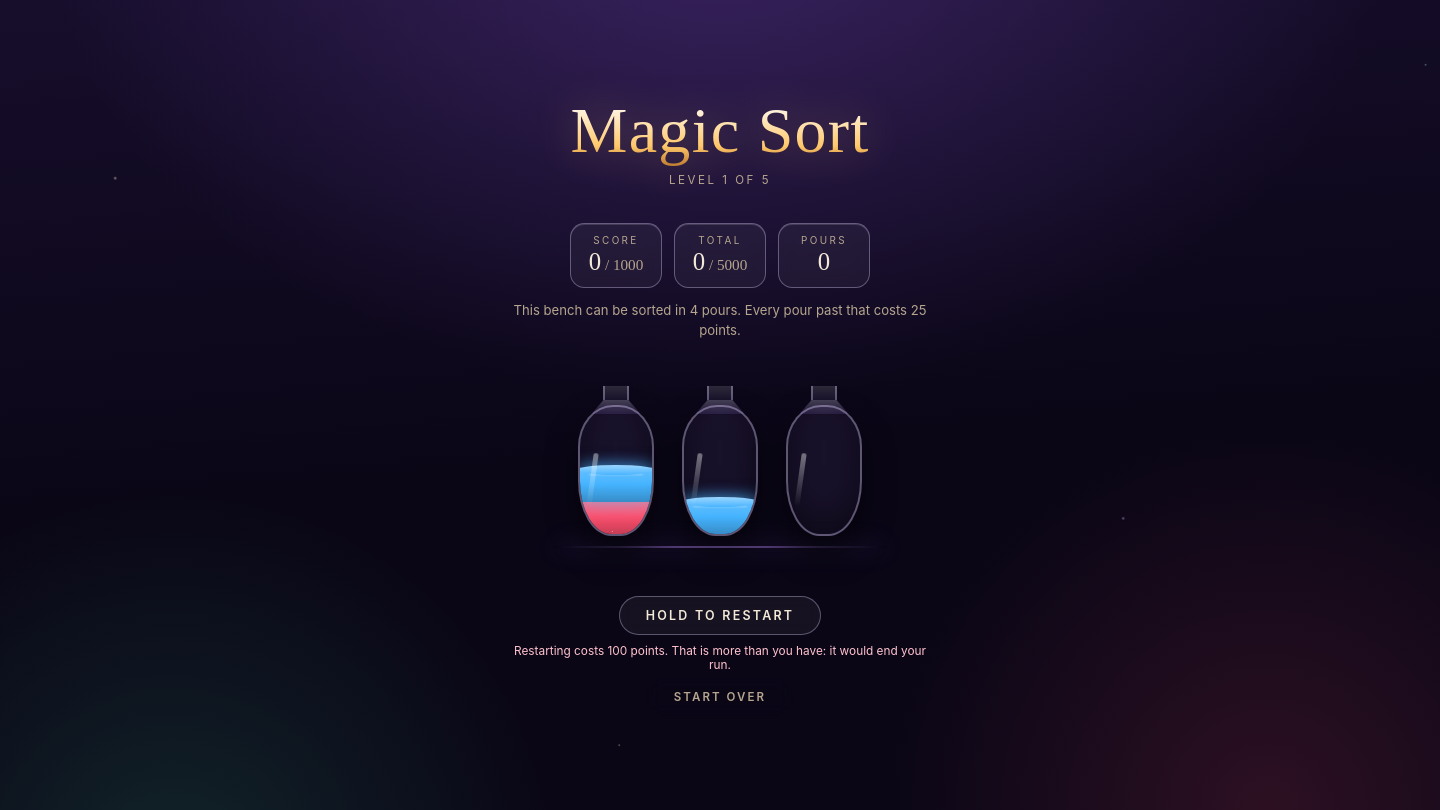
Test case: Game › counts the pours the apprentice has spent
Click the button named "Flask 1, a 4-layer flask holding crimson, azure from bottom".
click(616, 456)  # box [578,376,654,536]
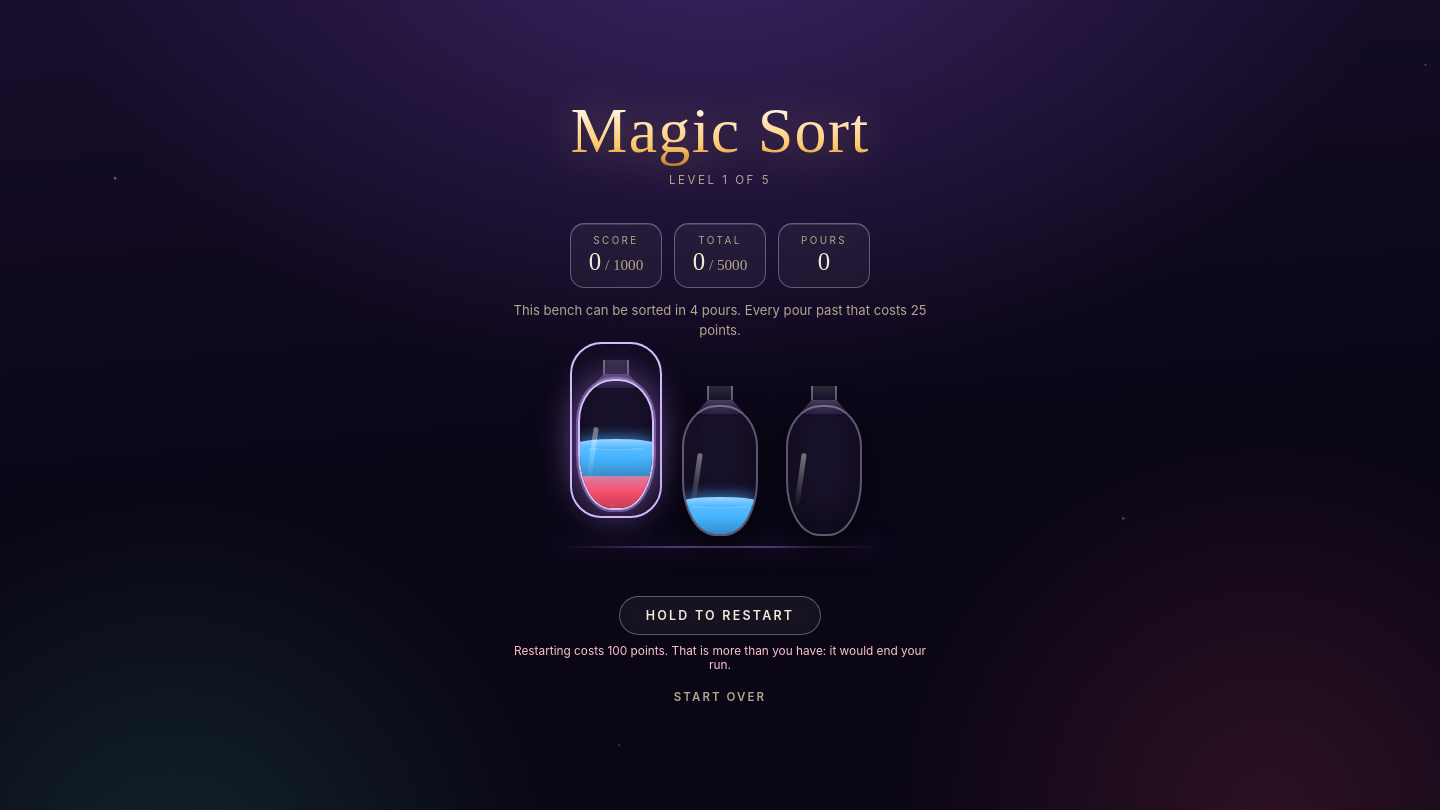
Click the button named "Flask 2, a 4-layer flask holding azure from bottom to top".
click(720, 456)  # box [682,376,758,536]
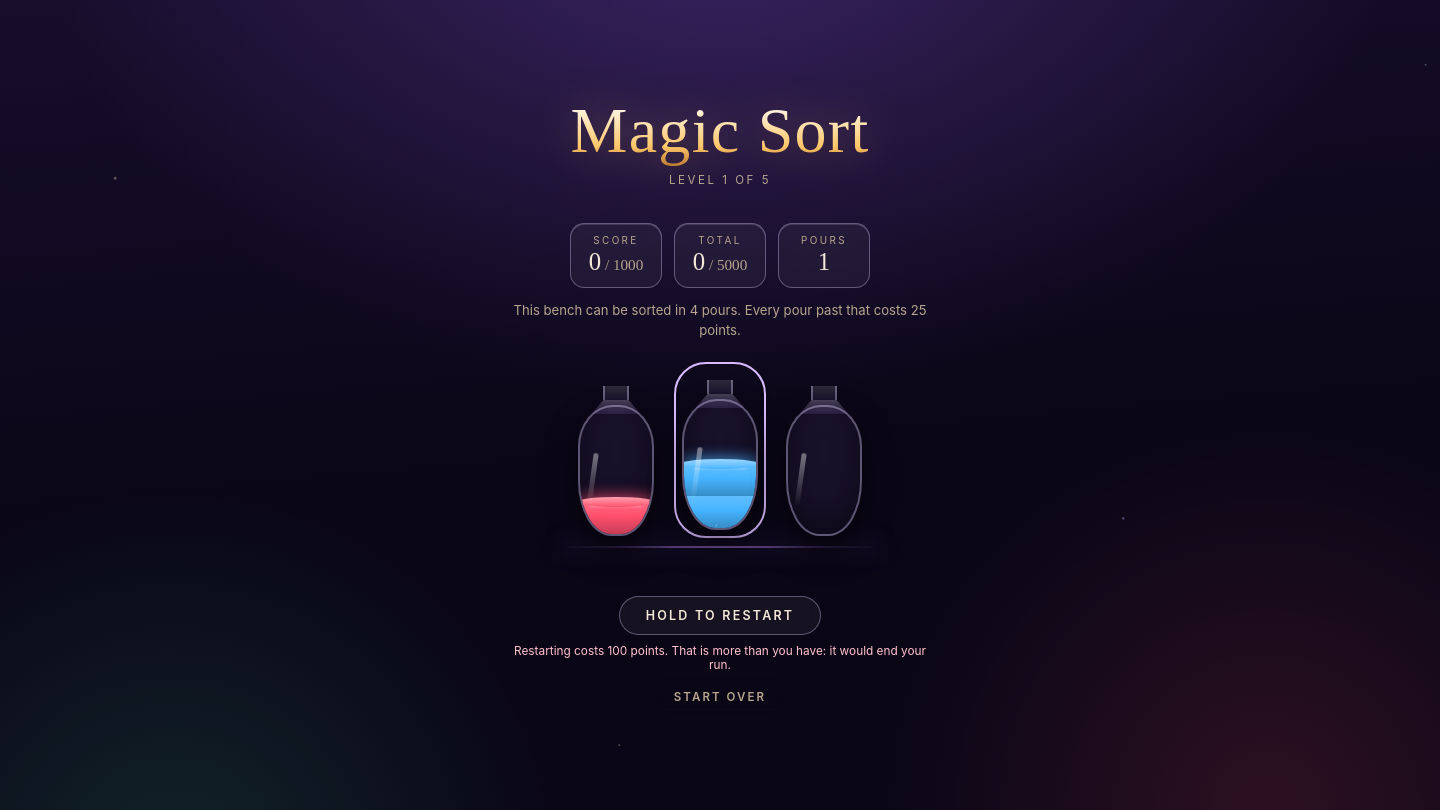
Expected: the text named "Pours" reads "1", [818,248,830,275]
